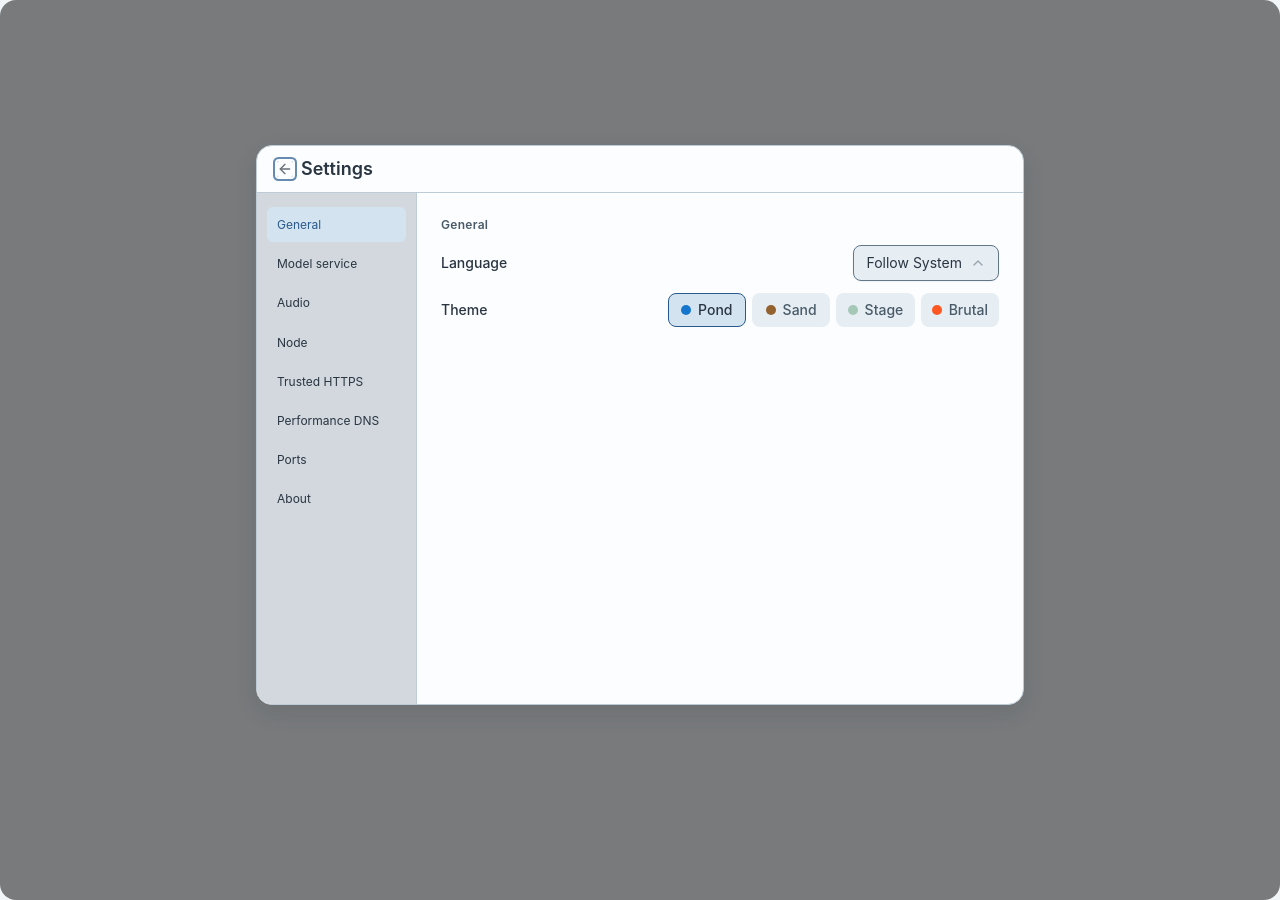
it: model service settings (#165) › recovers the reported unknown-key state explicitly and explains that a saved key is not refilled
Step 1. Click the button "Model service" → (336, 264), box left=267, top=246, right=406, bottom=281
(page scrolled)
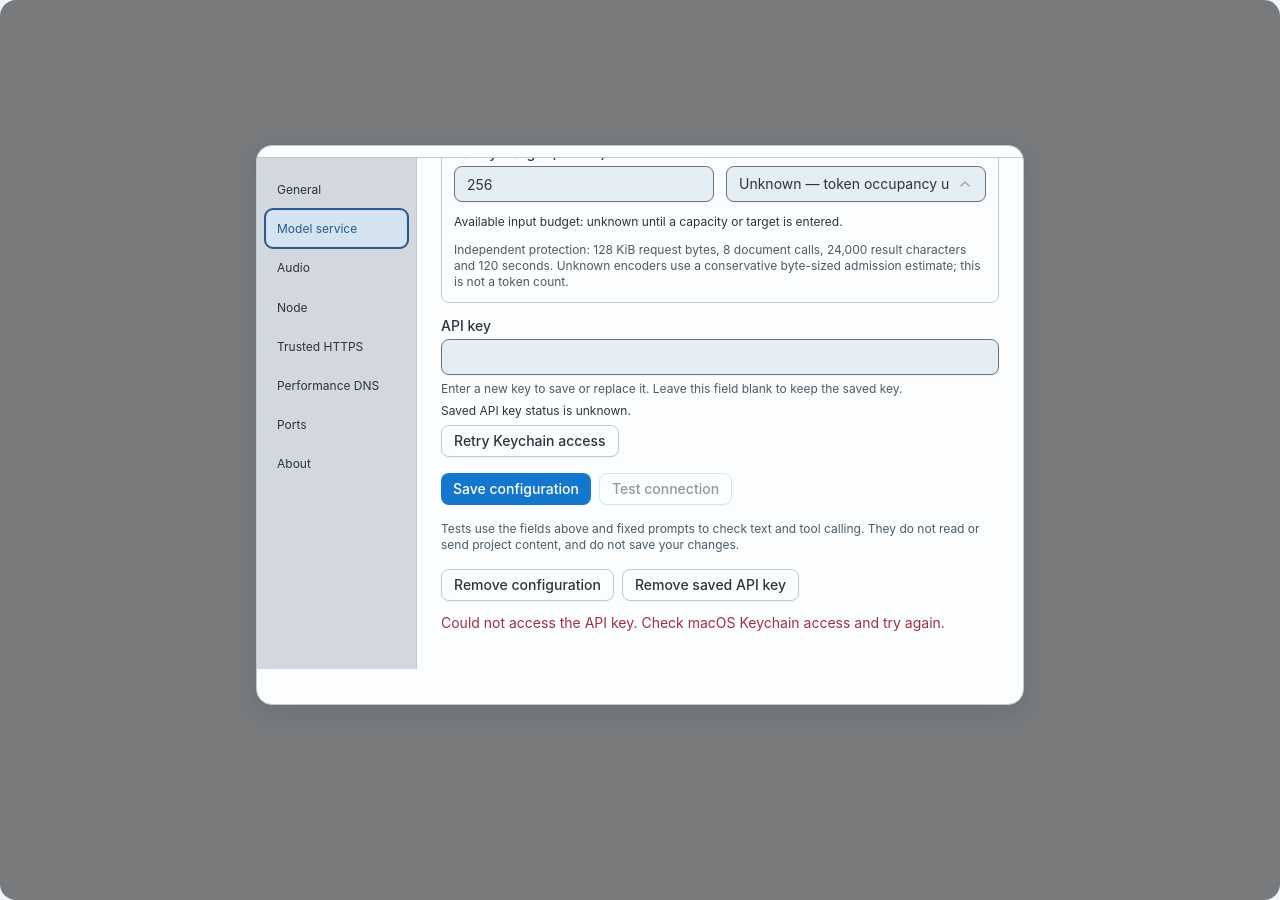
Expected: the text "Saved API key status is unknown." is shown, left=441, top=403, right=631, bottom=418
Step 2. Click the button "Retry Keychain access" → (530, 441), box left=441, top=425, right=619, bottom=457
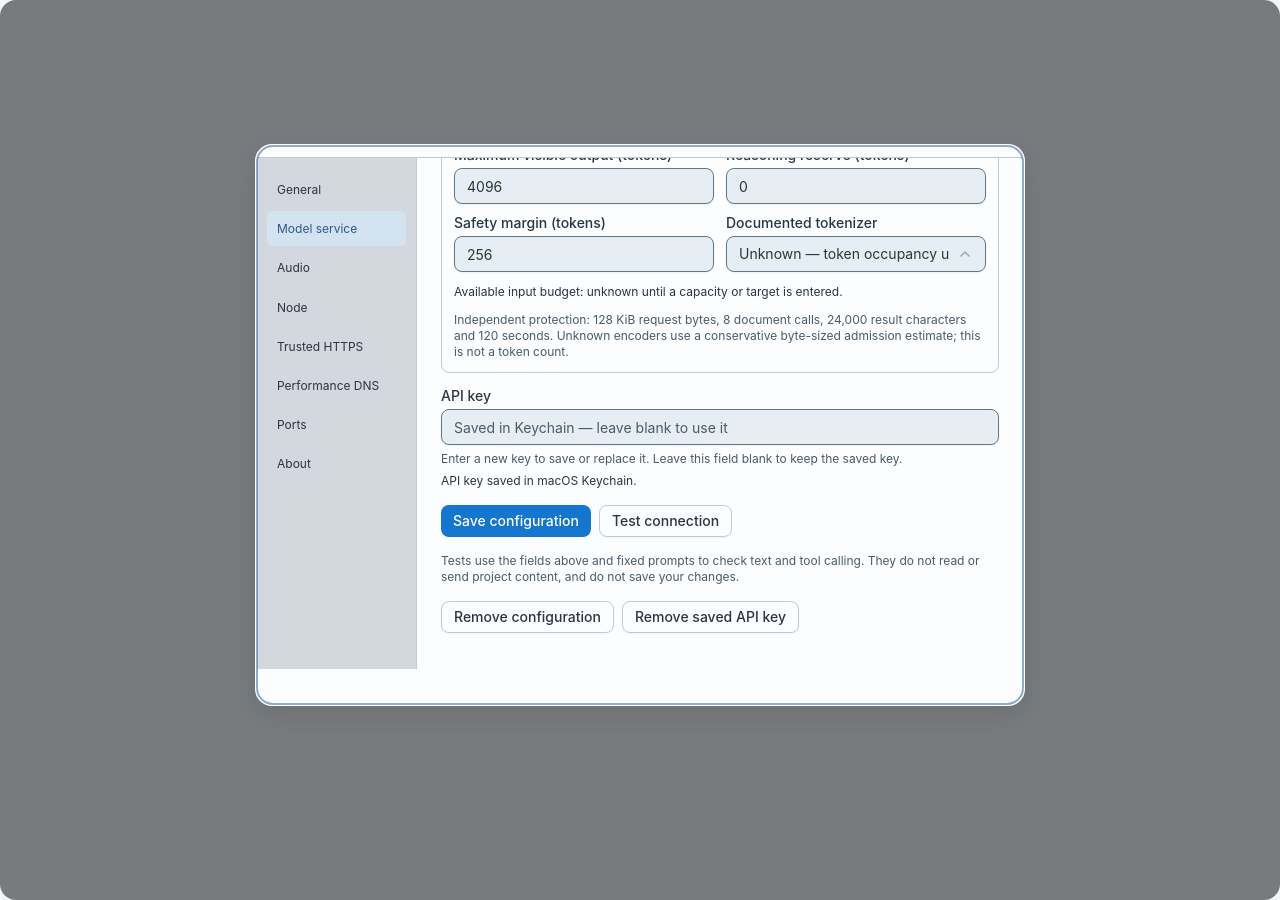
Expected: the password field labelled "API key" is empty, left=441, top=409, right=999, bottom=445
Expected: the text "API key saved in macOS Keychain." is shown, left=441, top=473, right=637, bottom=488
Expected: the button "Test connection" is enabled, left=599, top=505, right=732, bottom=537
